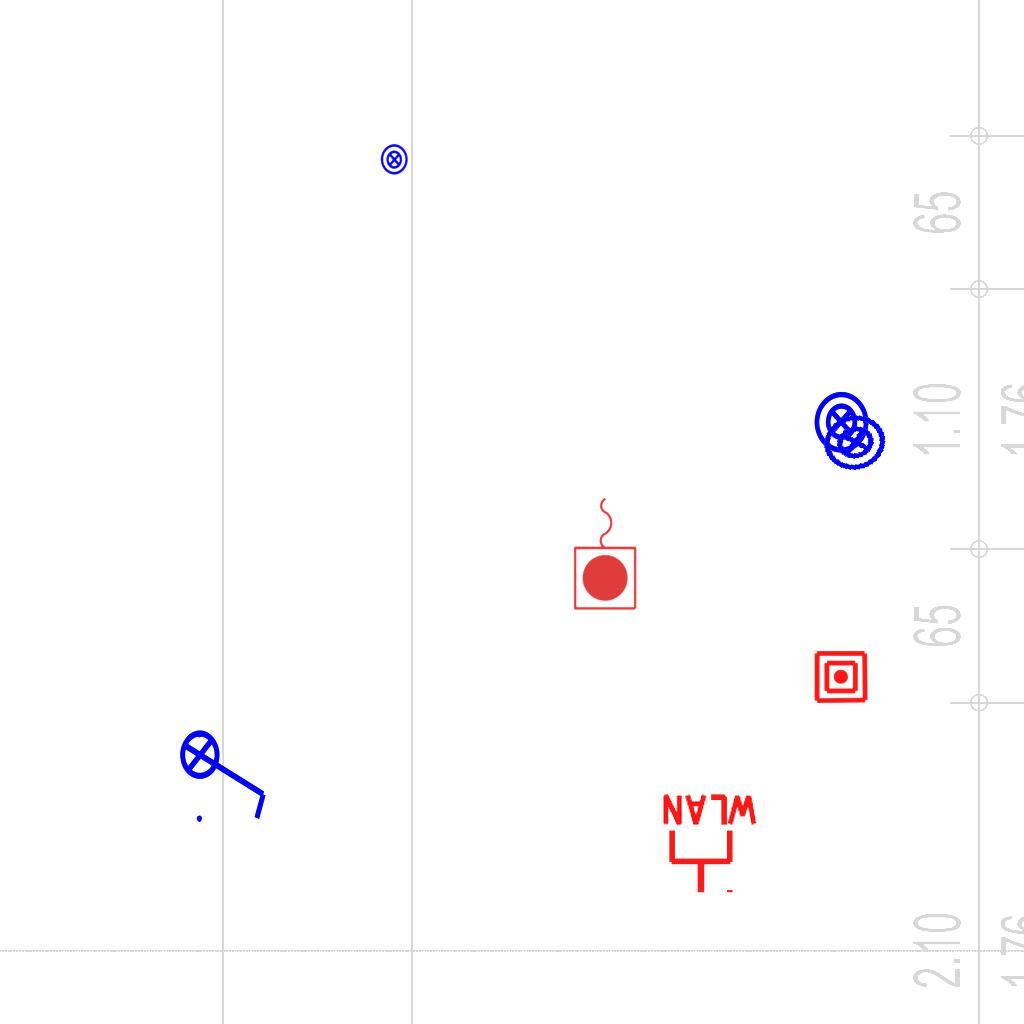Ausschalter_beleuchtet: (178, 716, 274, 828)
NAM-Nichtautomatischer_Melder: (813, 649, 869, 705)
Taster_beleuchtet: (815, 402, 895, 482), (808, 389, 874, 455), (378, 143, 411, 176)
WLAN: (658, 792, 762, 897)
Zugtaster: (570, 492, 642, 614)
